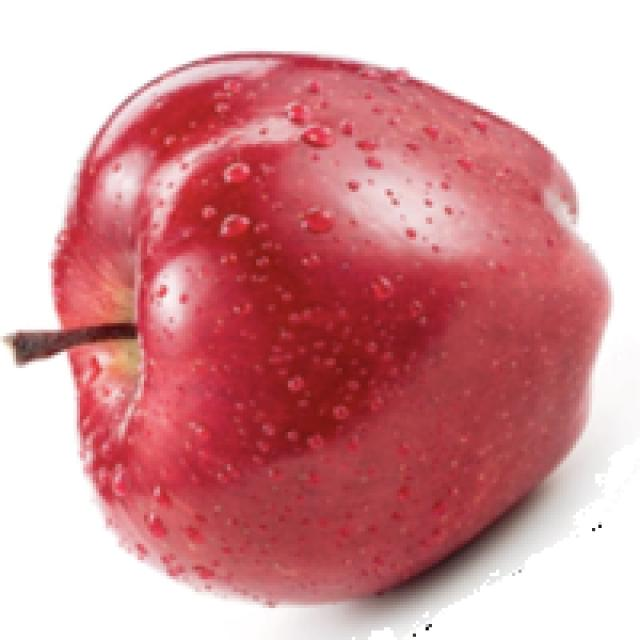apple: (0, 45, 614, 637)
